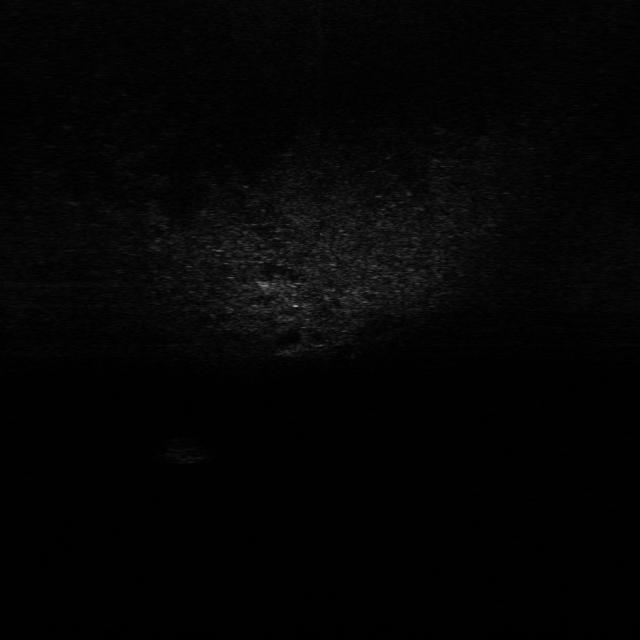circle cage: (156, 432, 218, 468)
